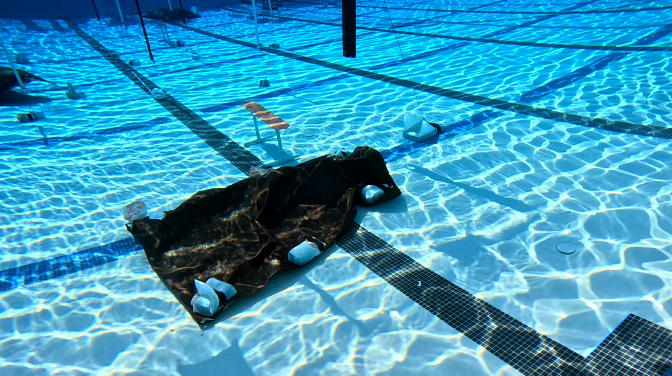pathmarker: (243, 100, 287, 129)
sandbag: (125, 146, 400, 326)
